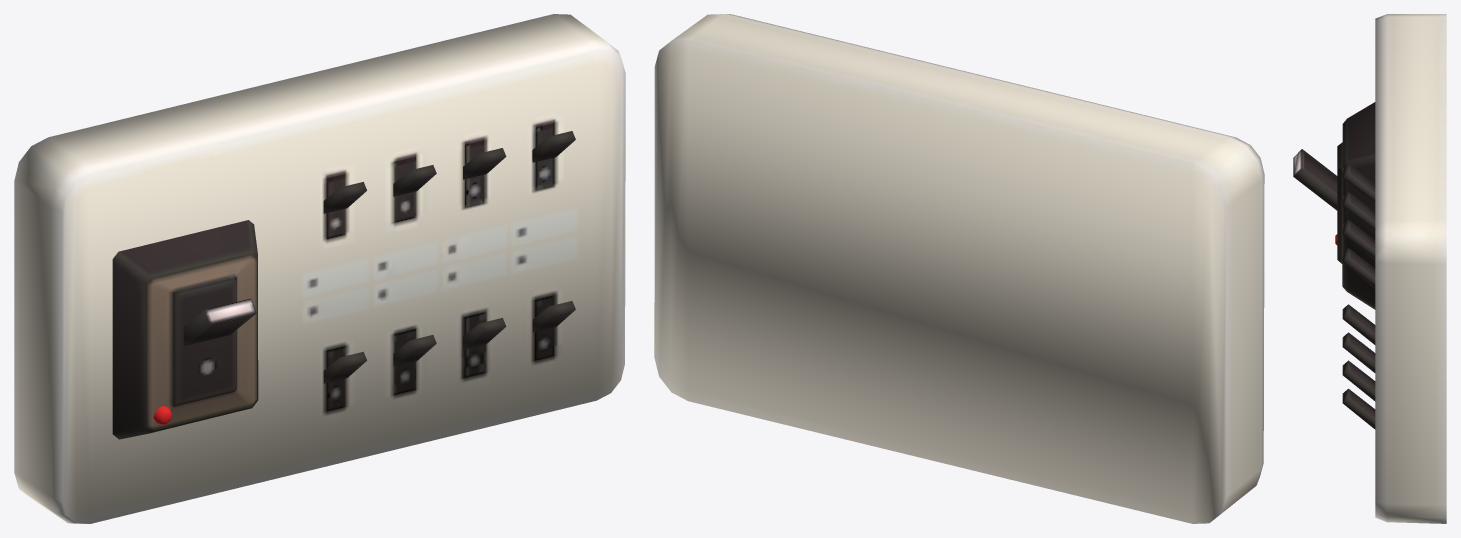
Rendered from FtrBreaker.glb.
3 views of the same model, side by side, from view 1: azimuth 30°, elevation 25°; view 2: azimuth 150°, elevation 25°; view 3: azimuth 270°, elevation 25° (orthographic). The views are drawn at different scales.
Visible parts, largest first — view 1: breaker_low__mBody; view 2: breaker_low__mBody; view 3: breaker_low__mBody.
Part boxes in pixels (x1=…): breaker_low__mBody: x1=14, y1=14, x2=625, y2=523; breaker_low__mBody: x1=654, y1=14, x2=1264, y2=523; breaker_low__mBody: x1=1293, y1=14, x2=1446, y2=523.
Size of the model in its own units: 6.81 by 4.11 by 1.9.
1 material, 1 textured.
